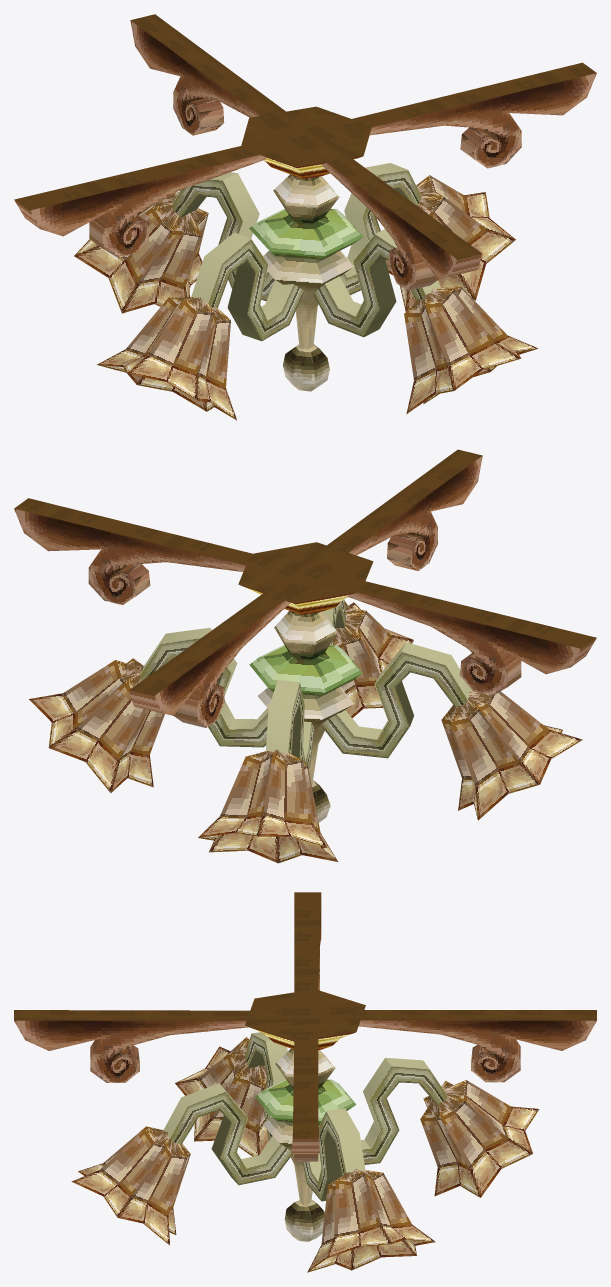
The model's file is shan27-1.glb.
The picture shows the model from 3 angles, top to bottom: view 1: azimuth 30°, elevation 25°; view 2: azimuth 150°, elevation 25°; view 3: azimuth 270°, elevation 25°; orthographic projection. The views are drawn at different scales.
Visible parts, largest first — view 1: shan27_1; view 2: shan27_1; view 3: shan27_1.
Boxes of the visible parts, x1=… form: shan27_1: x1=14, y1=14, x2=596, y2=420; shan27_1: x1=14, y1=449, x2=596, y2=863; shan27_1: x1=14, y1=892, x2=596, y2=1272.
Bounding box in the file's own units: 366 × 156 × 366.
7 materials, 7 textured.
